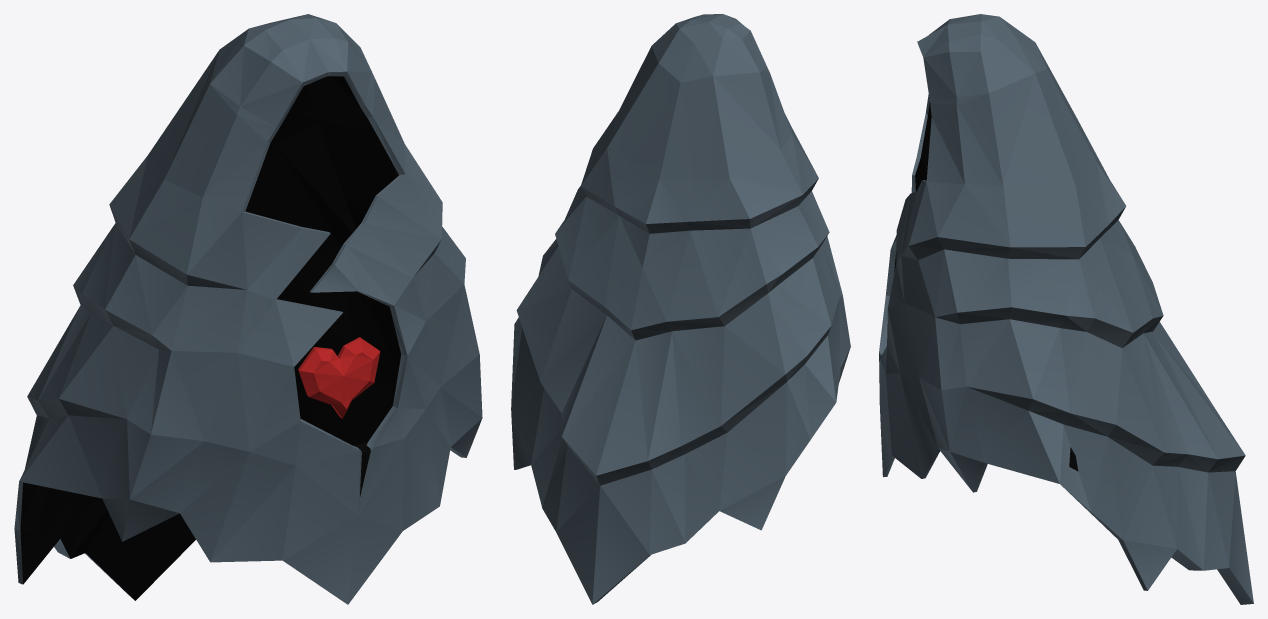
Rendered from GhostBody3.dae.
3 renders of one model, left to right at view 1: azimuth 30°, elevation 25°; view 2: azimuth 150°, elevation 25°; view 3: azimuth 270°, elevation 25°, orthographic. The views are drawn at different scales.
Parts seen in each view (by area): view 1: Empty_Mesh; view 2: Empty_Mesh; view 3: Empty_Mesh.
Boxes of the visible parts, bbox=[...] form: Empty_Mesh: bbox=[14, 14, 482, 604]; Empty_Mesh: bbox=[511, 14, 850, 604]; Empty_Mesh: bbox=[879, 14, 1253, 604].
Size of the model in its own units: 5.48 by 4.72 by 8.12.
